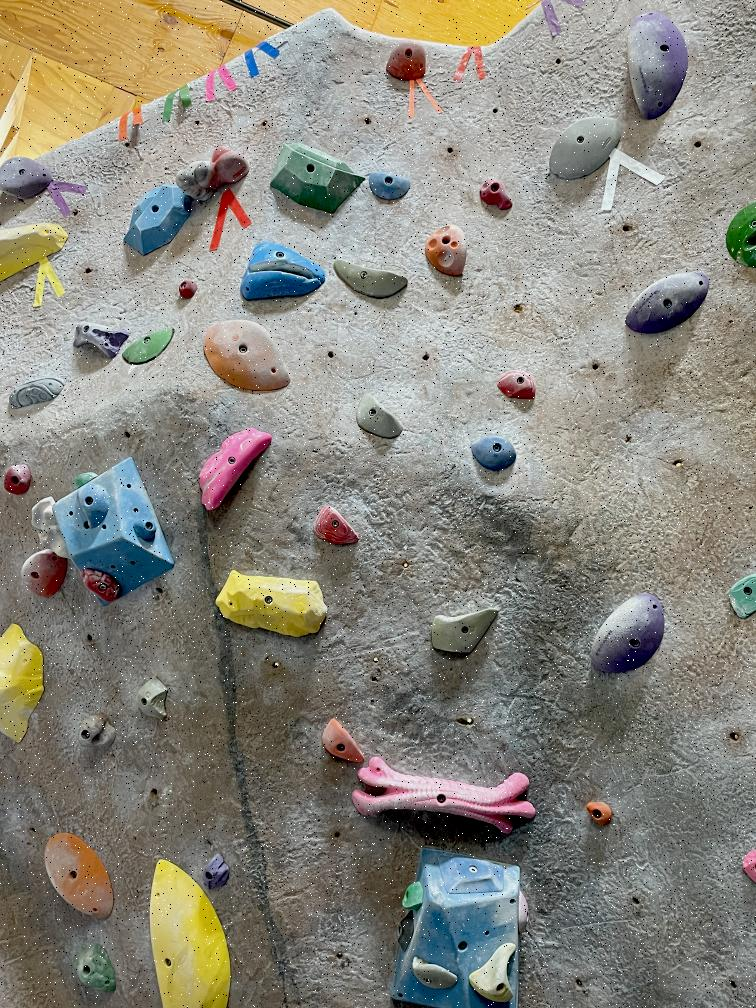Crimp: (428, 608, 502, 657), (356, 394, 404, 442), (312, 502, 358, 552), (320, 715, 365, 766), (120, 326, 178, 364), (73, 480, 115, 524), (727, 566, 756, 622), (200, 848, 236, 892), (369, 168, 411, 205)
Edges: (351, 758, 537, 835), (146, 854, 239, 1008), (211, 562, 339, 641), (267, 139, 366, 216), (198, 419, 271, 518), (335, 258, 413, 303)
Foothold: (583, 798, 617, 826), (177, 276, 202, 304), (134, 518, 158, 542)
Hand-holds: (26, 496, 70, 556), (392, 911, 417, 948)
Jug: (619, 11, 696, 120), (38, 830, 124, 926), (586, 586, 668, 683), (205, 318, 299, 394), (547, 111, 625, 183), (622, 275, 710, 334), (0, 147, 58, 205), (380, 36, 432, 86), (425, 226, 471, 278), (488, 364, 543, 404), (473, 433, 520, 476), (410, 956, 455, 991), (472, 180, 516, 212), (79, 570, 123, 601), (4, 458, 30, 494), (401, 883, 426, 909)
Pinch: (23, 550, 68, 598), (68, 320, 126, 355), (133, 674, 174, 722), (4, 378, 71, 407)
Pocket: (241, 243, 326, 300)
Sloper: (124, 178, 189, 254), (174, 150, 247, 196), (471, 939, 519, 1006), (73, 945, 122, 994), (78, 708, 120, 753)
